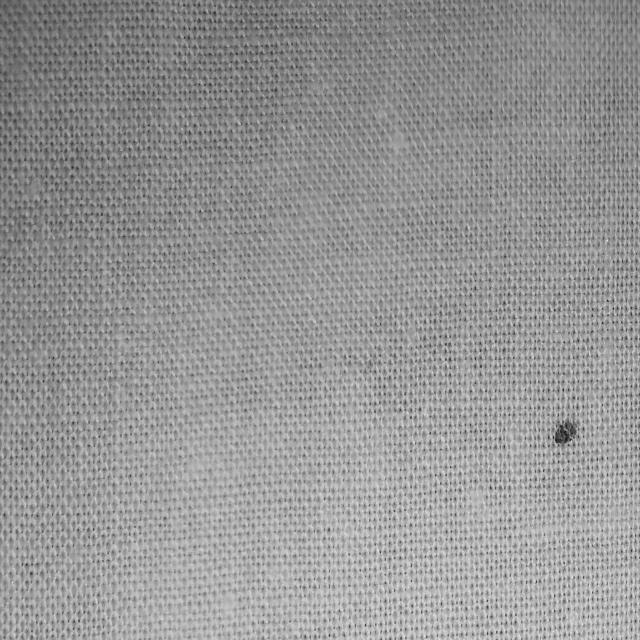Stain: (555, 420, 578, 445)
